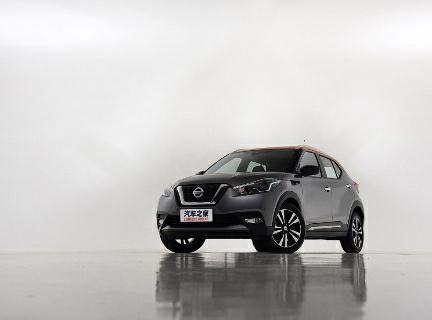日产-劲客: (149, 139, 375, 265)
